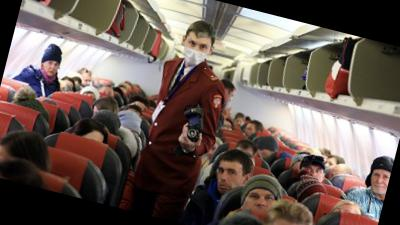with_mask: (182, 38, 212, 69)
without_mask: (215, 160, 246, 198), (368, 171, 390, 198), (41, 59, 62, 78), (222, 92, 236, 110)
